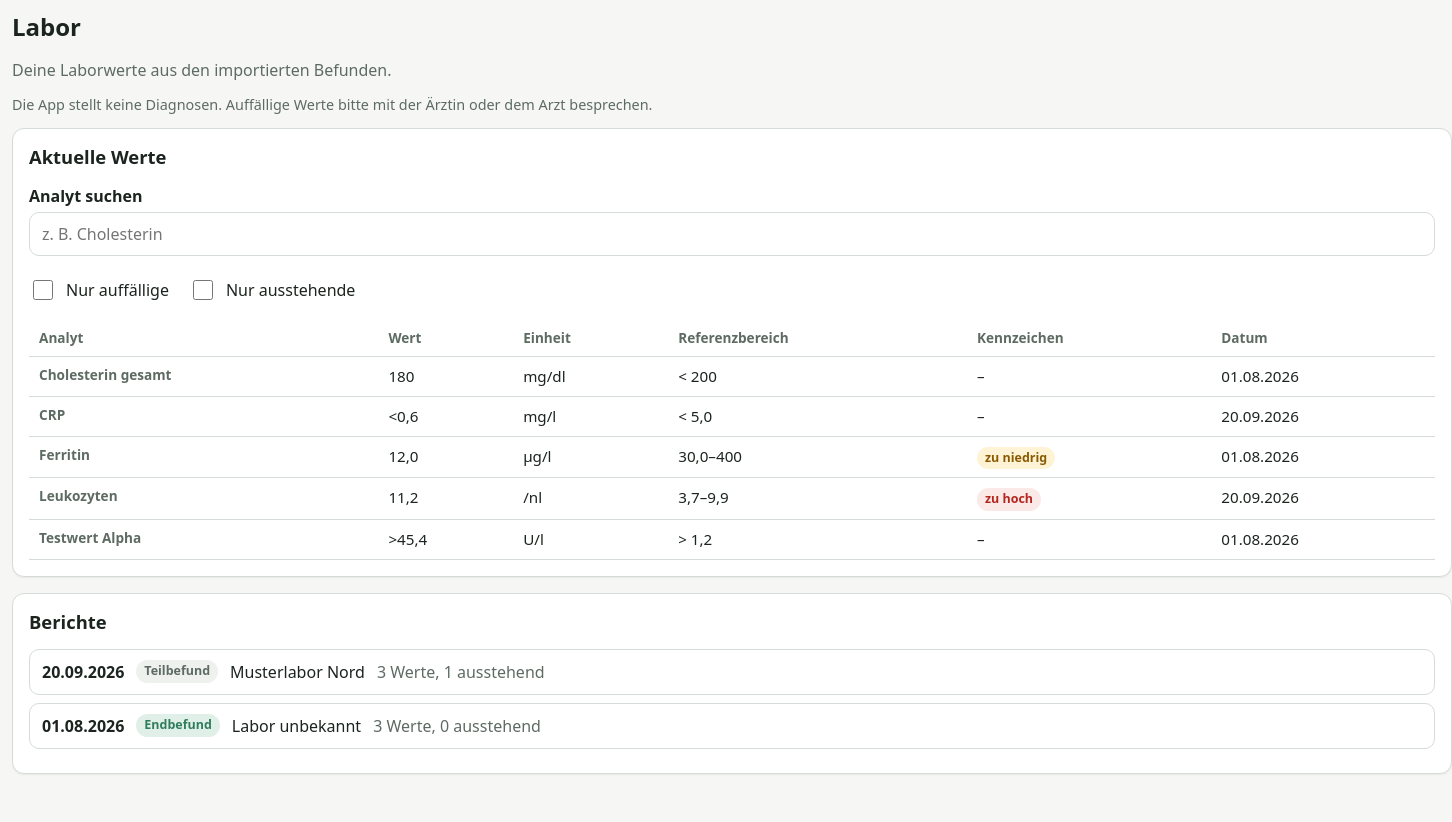
Test: Labor › filtert nach Suchtext
Check: the heading "Aktuelle Werte" is shown, box [29,145,166,168]
Type "chol" into the search field labelled "Analyt suchen" at (732, 234), box [29,212,1435,256]
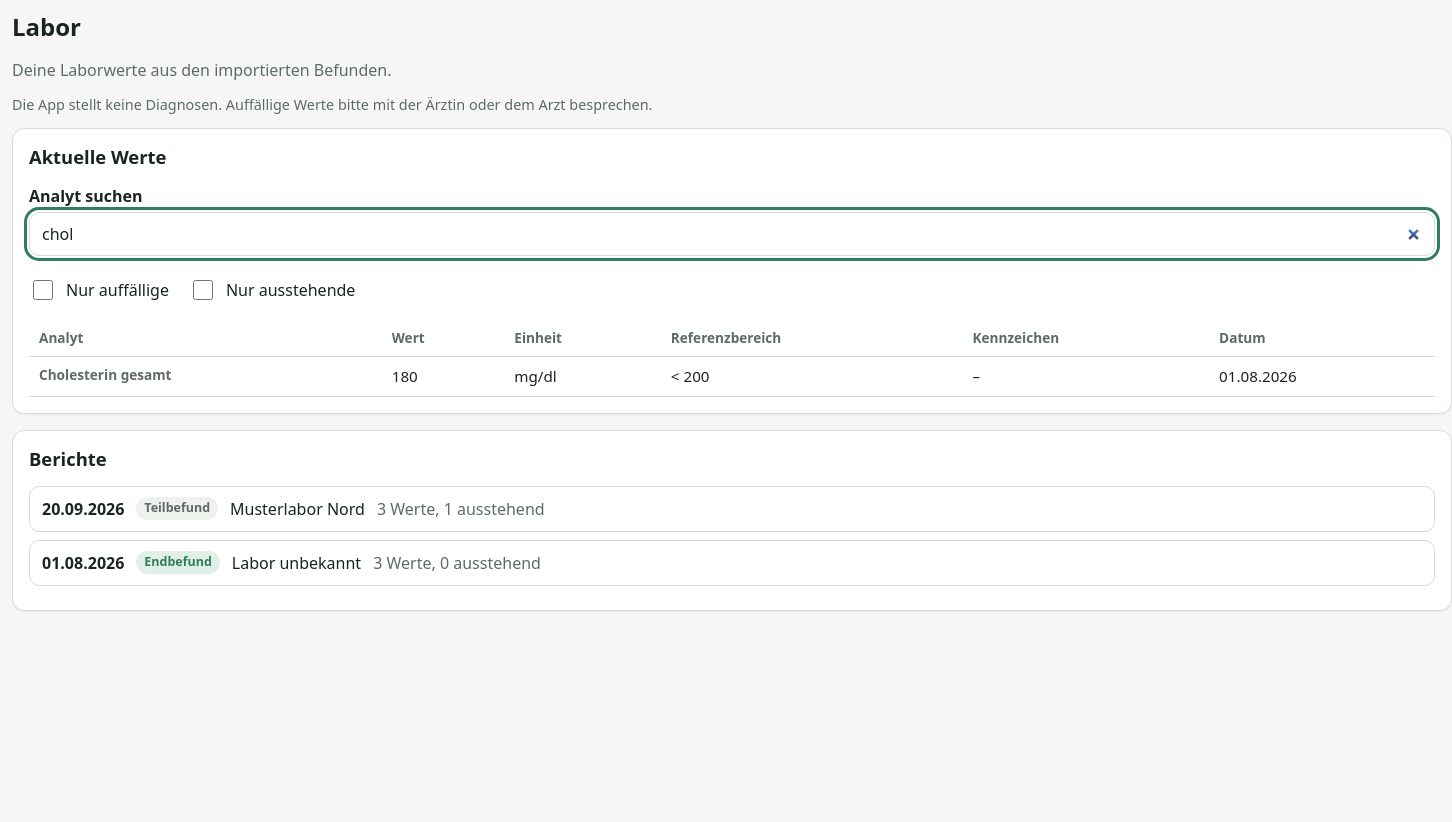
Check: the row "Cholesterin gesamt 180 mg/dl < 200 – 01.08.2026" is shown, box [29,356,1435,396]
Check: the column heading "Leukozyten" is gone
Replace the text in the search field labelled "Analyt suchen" with "gibtesnicht" at (732, 234), box [29,212,1435,256]
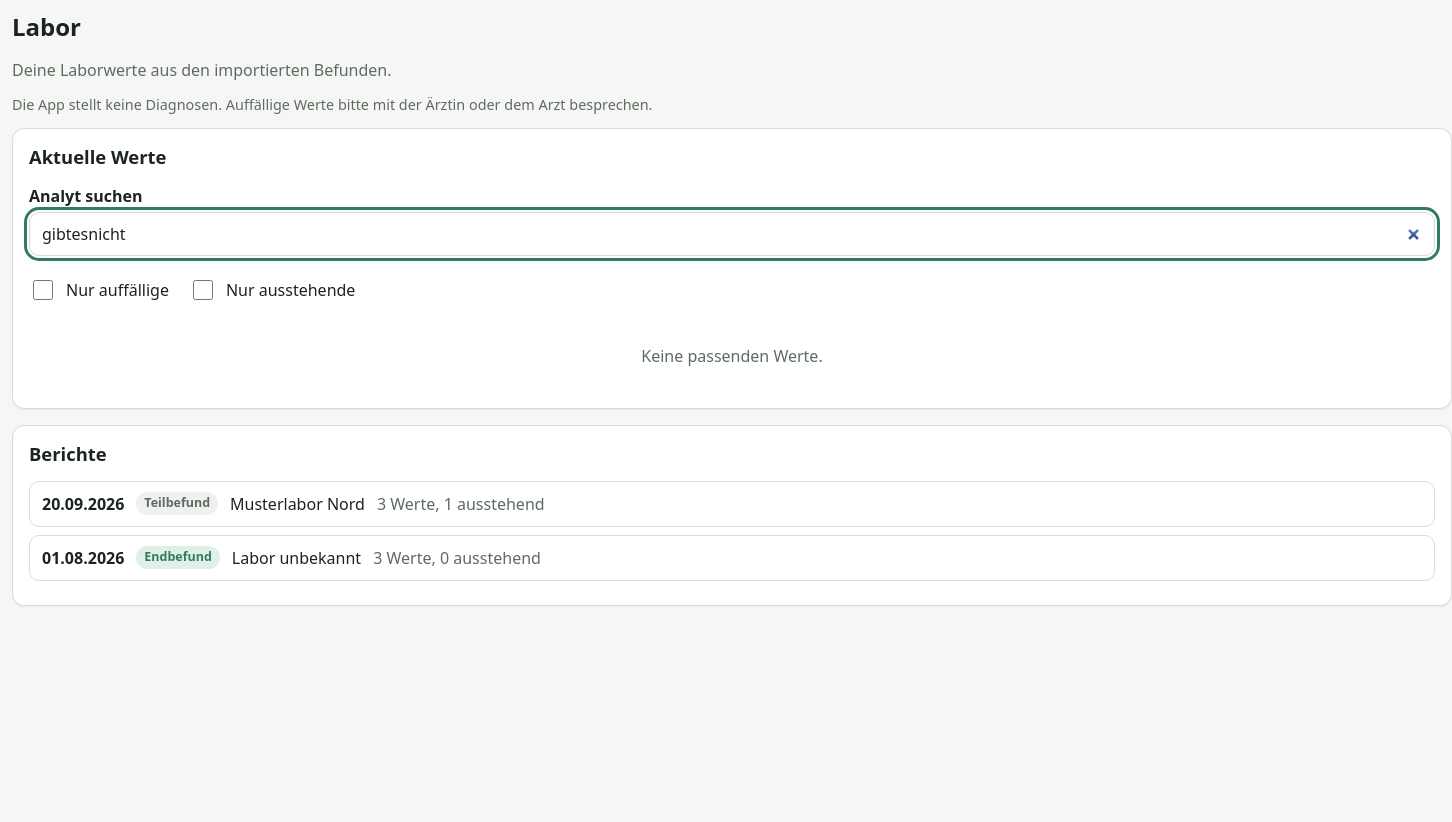
Check: the text "Keine passenden Werte." is shown, box [641,345,823,367]
